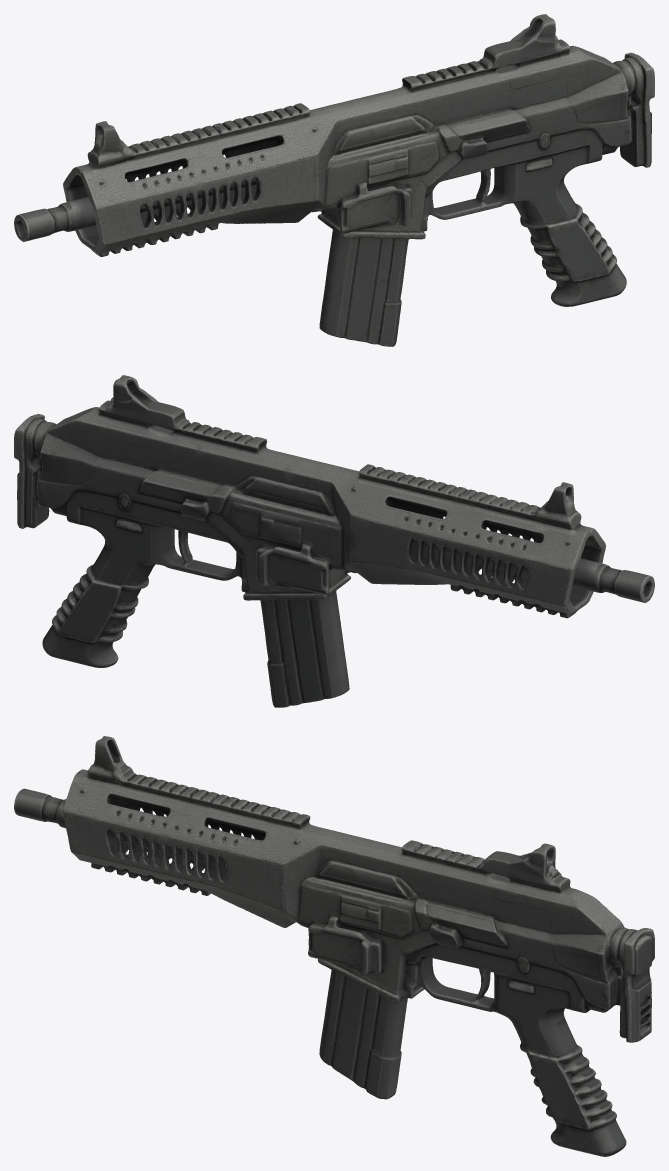
Rendered from structure-outpost-pbr-v2.glb.
3 views of the same model, one above another, from view 1: azimuth 30°, elevation 25°; view 2: azimuth 150°, elevation 25°; view 3: azimuth 330°, elevation 25° (orthographic).
Bounding box in the file's own units: 2 × 0.8887 × 0.244.
Materials: 1 (1 with a texture image).
